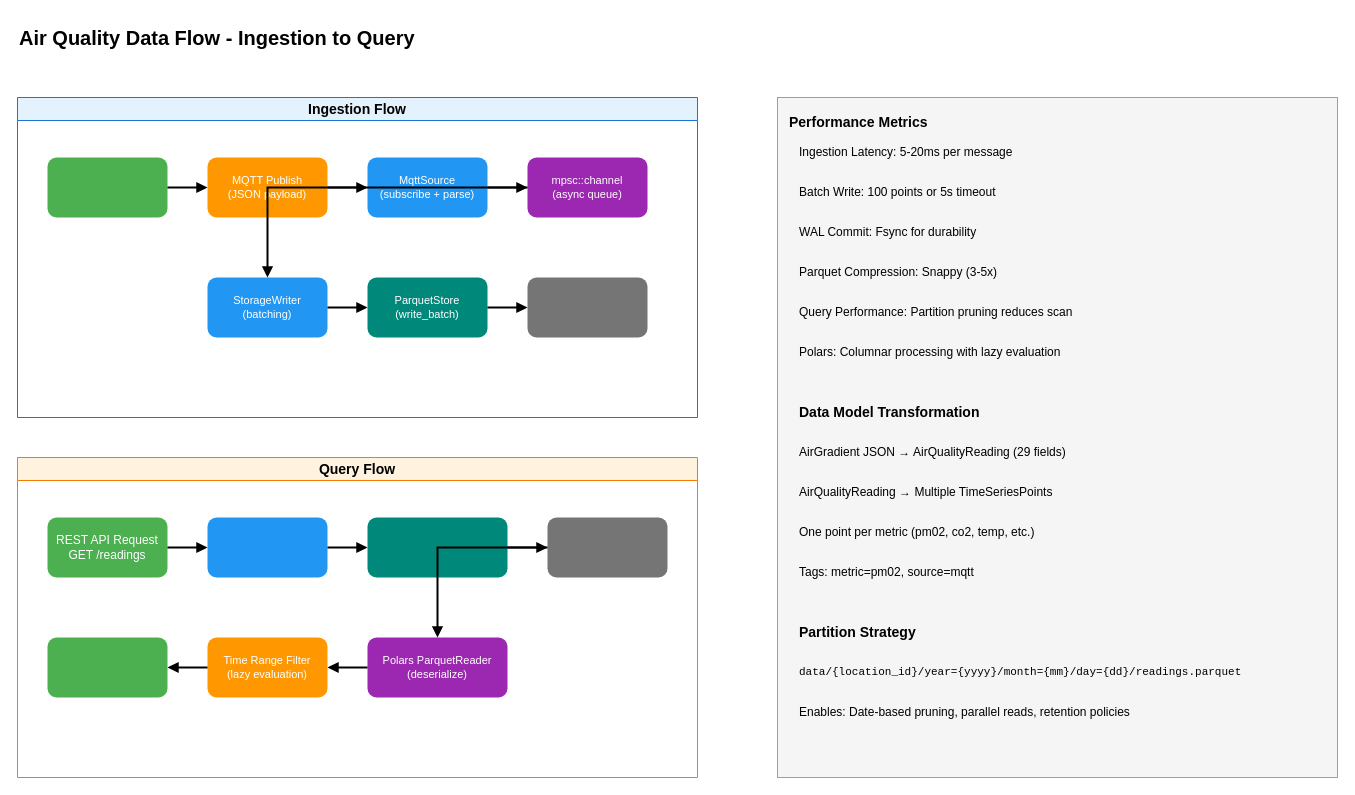
The diagram is 1355 pixels wide and 795 high, and some of its shapes have lost their labels. Each missing label, with the centre of its shape:
"AirGradient Sensor" belongs at [107,187].
"Filesystem (partitioned files)" belongs at [587,307].
"Filesystem Read (partition scan)" belongs at [607,547].
"JSON Response (ApiResponse wrapper)" belongs at [107,667].
"ParquetStore::query() (time range filter)" belongs at [437,547].
"ReadingsHandler (route handler)" belongs at [267,547].
